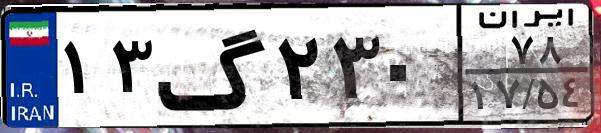0: (385, 28, 445, 110)
1: (57, 26, 110, 100), (470, 70, 495, 125)
2: (270, 28, 330, 110)
3: (330, 28, 385, 110), (110, 28, 156, 98)
4: (560, 70, 590, 125)
5: (535, 70, 560, 125)
7: (508, 27, 537, 80), (495, 70, 520, 125)
8: (537, 27, 568, 80)
گ: (156, 12, 270, 120)
